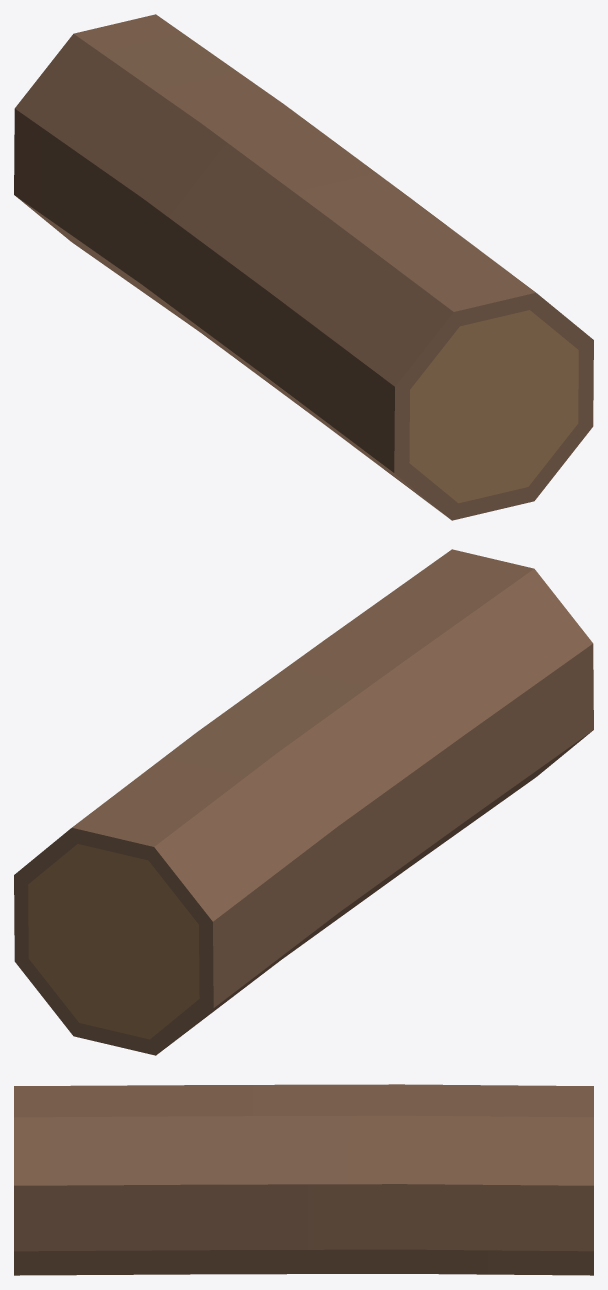
File: atoll_Log.fbx
3 renders of one model, top to bottom at view 1: azimuth 30°, elevation 25°; view 2: azimuth 150°, elevation 25°; view 3: azimuth 270°, elevation 25°, orthographic. The views are drawn at different scales.
Parts seen in each view (by area): view 1: pasted__pCylinder1; view 2: pasted__pCylinder1; view 3: pasted__pCylinder1.
Part boxes in pixels (x1,y1,x2,y2): pasted__pCylinder1: (14, 14, 593, 520); pasted__pCylinder1: (14, 549, 593, 1055); pasted__pCylinder1: (14, 1084, 593, 1275).
Size of the model in its own units: 154 by 155 by 506.
